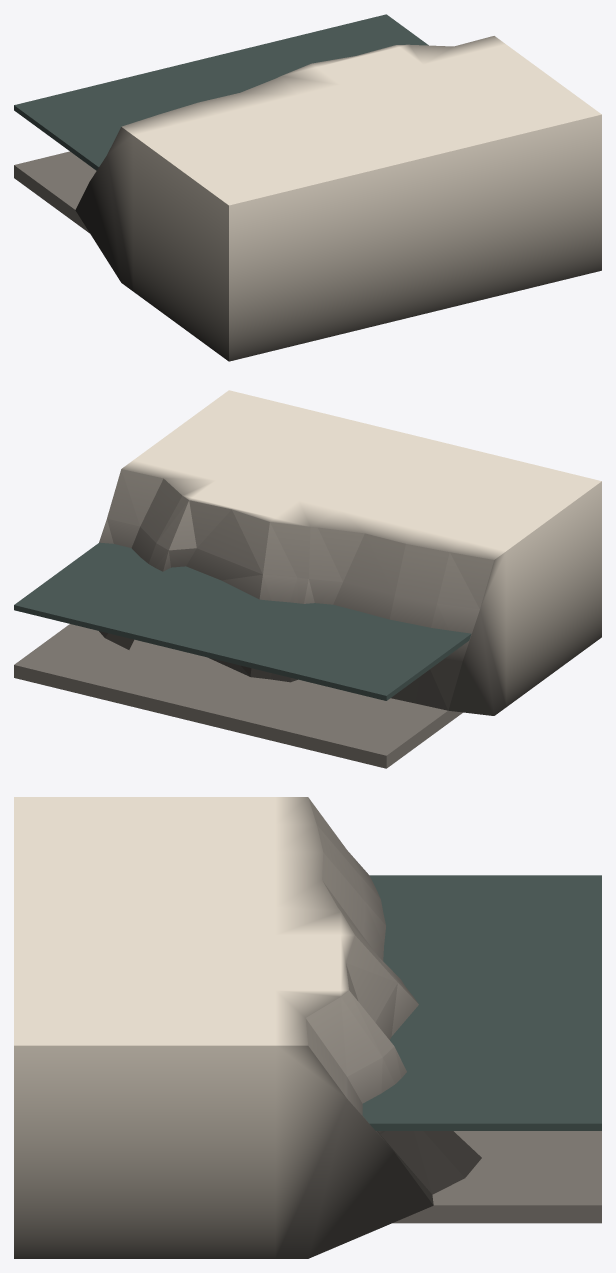
The model's file is SM_VKI_Ground_Stream_OOXX_Q10.fbx.
3 renders of one model, top to bottom at view 1: azimuth 30°, elevation 25°; view 2: azimuth 150°, elevation 25°; view 3: azimuth 270°, elevation 25°, orthographic. The views are drawn at different scales.
Parts seen in each view (by area): view 1: SM_VKI_Ground_Stream_OOXX_Q10.001; view 2: SM_VKI_Ground_Stream_OOXX_Q10.001; view 3: SM_VKI_Ground_Stream_OOXX_Q10.001.
Boxes of the visible parts, box(x1,y1,x2,y2) form: SM_VKI_Ground_Stream_OOXX_Q10.001: box(14, 14, 601, 361); SM_VKI_Ground_Stream_OOXX_Q10.001: box(14, 390, 601, 768); SM_VKI_Ground_Stream_OOXX_Q10.001: box(14, 797, 601, 1258).
Bounding box in the file's own units: 1.5 × 0.6 × 1.5.
